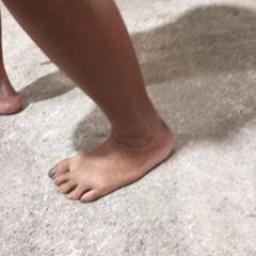Lateral View -Left Foot-: (42, 108, 184, 207)
